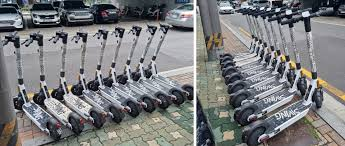kick_handler: (285, 12, 321, 31), (22, 30, 44, 46), (50, 29, 68, 43), (3, 32, 20, 46), (71, 29, 87, 43), (94, 25, 108, 39), (112, 23, 124, 38), (159, 22, 170, 33), (130, 25, 142, 35), (146, 24, 158, 34)
kick_neck: (304, 33, 318, 76), (15, 50, 24, 89), (37, 47, 46, 85), (78, 45, 87, 80), (96, 43, 106, 73), (59, 45, 66, 83)
kick_wheel: (246, 122, 267, 145), (234, 103, 253, 125), (123, 98, 140, 118), (69, 114, 83, 135), (89, 108, 103, 127), (231, 90, 247, 106), (109, 105, 123, 123), (141, 95, 155, 113), (49, 118, 60, 140), (171, 88, 184, 105), (157, 92, 169, 109), (314, 89, 323, 108), (13, 97, 25, 110), (51, 89, 65, 100), (33, 94, 45, 105), (299, 78, 307, 94), (88, 80, 99, 91), (185, 85, 193, 99), (72, 85, 83, 95), (115, 75, 126, 84), (131, 71, 140, 80), (103, 77, 112, 85)
